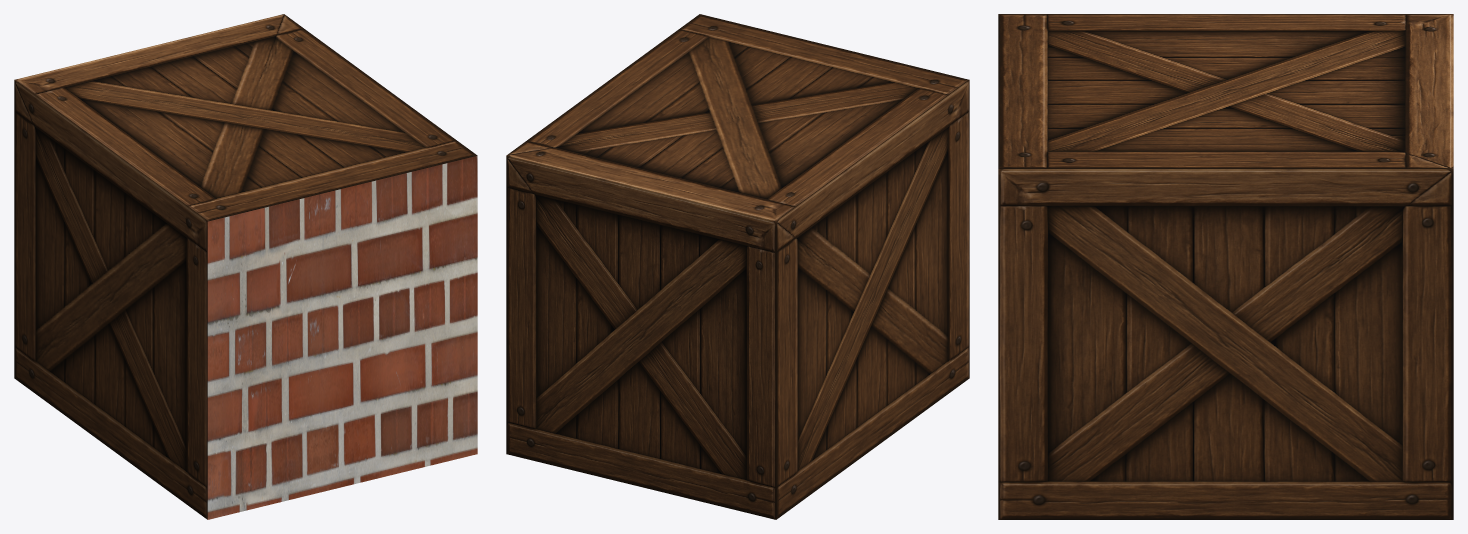
3 renders of one model, left to right at view 1: azimuth 30°, elevation 25°; view 2: azimuth 150°, elevation 25°; view 3: azimuth 270°, elevation 25°, orthographic. The views are drawn at different scales.
Visible parts, largest first — view 1: Cube; view 2: Cube; view 3: Cube.
Part boxes in pixels (box(x1,y1,x2,y2)): Cube: box(14, 14, 477, 519); Cube: box(506, 14, 969, 519); Cube: box(998, 14, 1453, 519).
Bounding box in the file's own units: 0.6989 × 0.7379 × 0.8679.
Materials: 2 (2 with a texture image).
